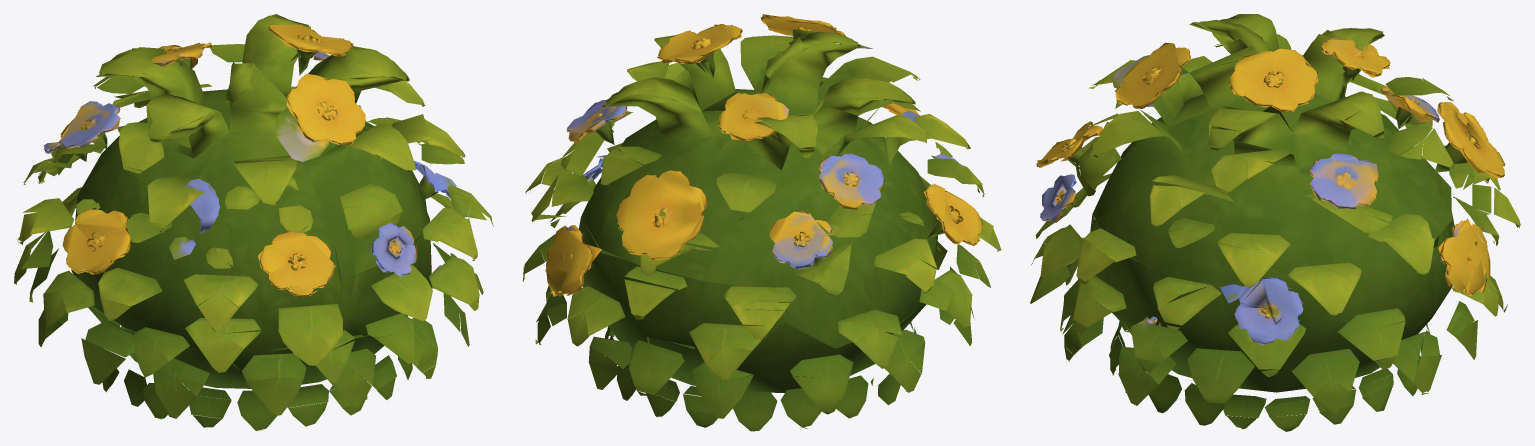
File: bush.glb
3 renders of one model, left to right at view 1: azimuth 30°, elevation 25°; view 2: azimuth 150°, elevation 25°; view 3: azimuth 270°, elevation 25°, orthographic.
Parts seen in each view (by area): view 1: bush; view 2: bush; view 3: bush.
Part boxes in pixels (x1,y1,x2,y2): bush: [14, 14, 493, 430]; bush: [522, 14, 1001, 431]; bush: [1030, 14, 1520, 431].
Size of the model in its own units: 0.893 by 0.6675 by 0.9039.
1 material, 1 textured.
